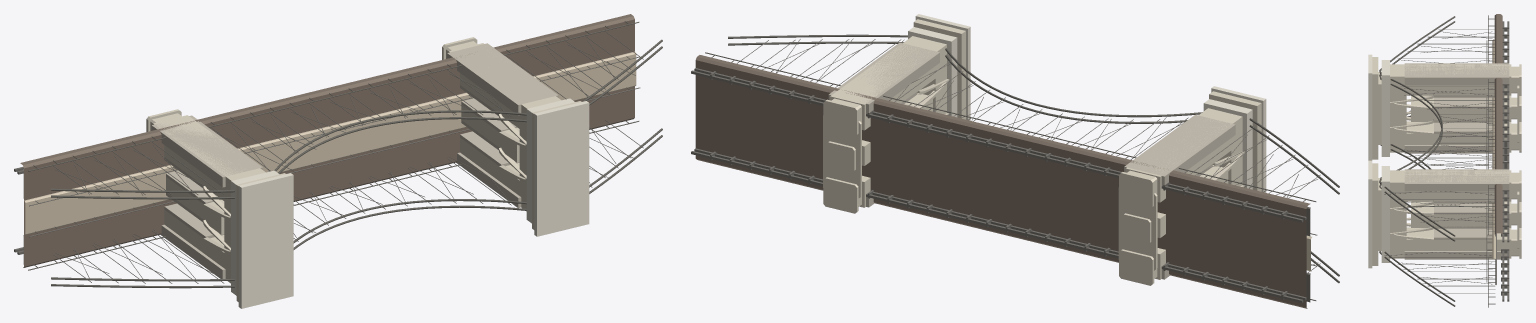
File: brooklyn-bridge.glb
The picture shows the model from 3 angles, left to right: view 1: azimuth 30°, elevation 25°; view 2: azimuth 150°, elevation 25°; view 3: azimuth 270°, elevation 25°; orthographic projection. The views are drawn at different scales.
Parts seen in each view (by area): view 1: main deck slab, raised pedestrian promenade, left tower cap, right tower cap, right tower buttress_1, left tower buttress_1, left tower outer north pier, left tower outer south pier, right tower outer north pier, right tower outer south pier, right tower central pier, left tower central pier (+15 smaller); view 2: main deck slab, left tower buttress_1, right tower outer north pier, right tower buttress_1, longitudinal truss chord_2, longitudinal truss chord, longitudinal truss chord_3, longitudinal truss chord_1, left tower outer north pier, tower base cross tie -30.0, tower base cross tie 30.0, left tower cornice lower (+14 smaller); view 3: right tower outer north pier, left tower buttress_1, right tower buttress_1, left tower outer north pier, main deck slab, right tower outer south pier, left tower outer south pier, left tower central pier, right tower central pier, left tower upper spandrel, right tower upper spandrel, left tower cornice lower (+38 smaller).
Part boxes in pixels (x1,y1,x2,y2): main deck slab: [20, 14, 634, 267]; raised pedestrian promenade: [24, 51, 636, 234]; left tower cap: [238, 173, 293, 308]; right tower cap: [534, 101, 589, 236]; right tower buttress_1: [447, 43, 558, 115]; left tower buttress_1: [151, 115, 262, 187]; left tower outer north pier: [153, 115, 265, 205]; left tower outer south pier: [164, 210, 230, 283]; right tower outer north pier: [448, 43, 561, 128]; right tower outer south pier: [460, 138, 526, 211]; right tower central pier: [461, 104, 519, 162]; left tower central pier: [166, 177, 224, 234]; main deck slab: [695, 55, 1310, 308]; left tower buttress_1: [1124, 114, 1235, 186]; right tower outer north pier: [830, 36, 946, 130]; right tower buttress_1: [828, 42, 939, 114]; longitudinal truss chord_2: [691, 70, 1303, 222]; longitudinal truss chord: [691, 151, 1303, 302]; longitudinal truss chord_3: [694, 68, 1306, 219]; longitudinal truss chord_1: [694, 148, 1306, 300]; left tower outer north pier: [1125, 108, 1242, 202]; tower base cross tie -30.0: [1118, 187, 1157, 270]; tower base cross tie 30.0: [823, 115, 861, 197]; left tower cornice lower: [1203, 99, 1252, 189]; right tower outer north pier: [1390, 170, 1511, 201]; left tower buttress_1: [1404, 63, 1509, 85]; right tower buttress_1: [1404, 169, 1509, 191]; left tower outer north pier: [1390, 64, 1511, 95]; main deck slab: [1494, 14, 1502, 234]; right tower outer south pier: [1390, 227, 1511, 258]; left tower outer south pier: [1390, 121, 1511, 152]; left tower central pier: [1411, 95, 1511, 121]; right tower central pier: [1411, 201, 1511, 227]; left tower upper spandrel: [1378, 72, 1406, 144]; right tower upper spandrel: [1378, 178, 1406, 250]; left tower cornice lower: [1381, 60, 1389, 156].
Bounding box in the file's own units: 124 × 23.5 × 36.7.
